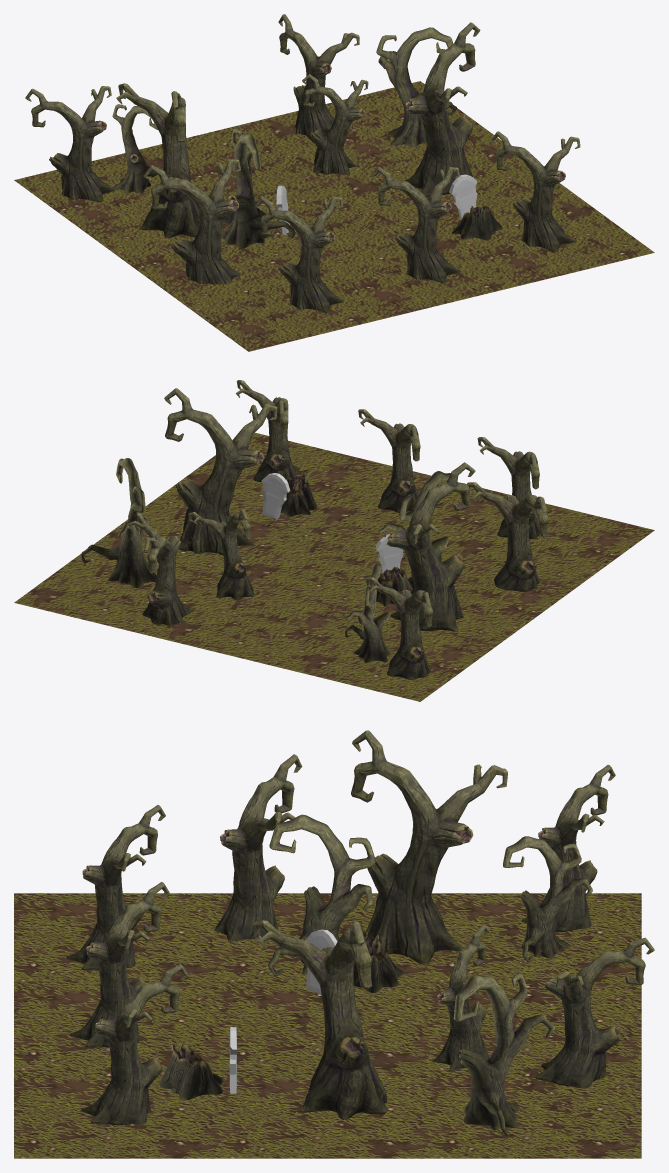
The model's file is Edge_Diorama_5.fbx.
3 views of the same model, one above another, from view 1: azimuth 30°, elevation 25°; view 2: azimuth 150°, elevation 25°; view 3: azimuth 270°, elevation 25° (orthographic). The views are drawn at different scales.
Parts seen in each view (by area): view 1: Floor029; view 2: Floor029; view 3: Floor029.
Part boxes in pixels (x1=…): Floor029: x1=14, y1=14, x2=654, y2=351; Floor029: x1=14, y1=380, x2=654, y2=701; Floor029: x1=14, y1=730, x2=654, y2=1158.
Bounding box in the file's own units: 450 × 177 × 459.
